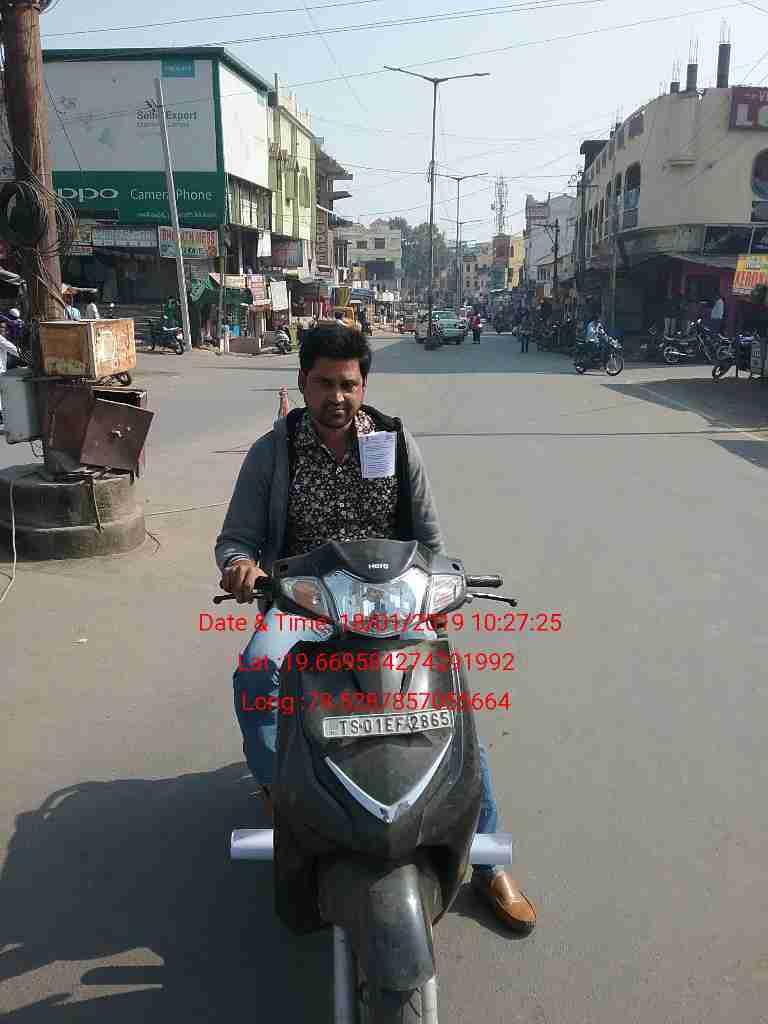plate: (321, 708, 455, 738)
